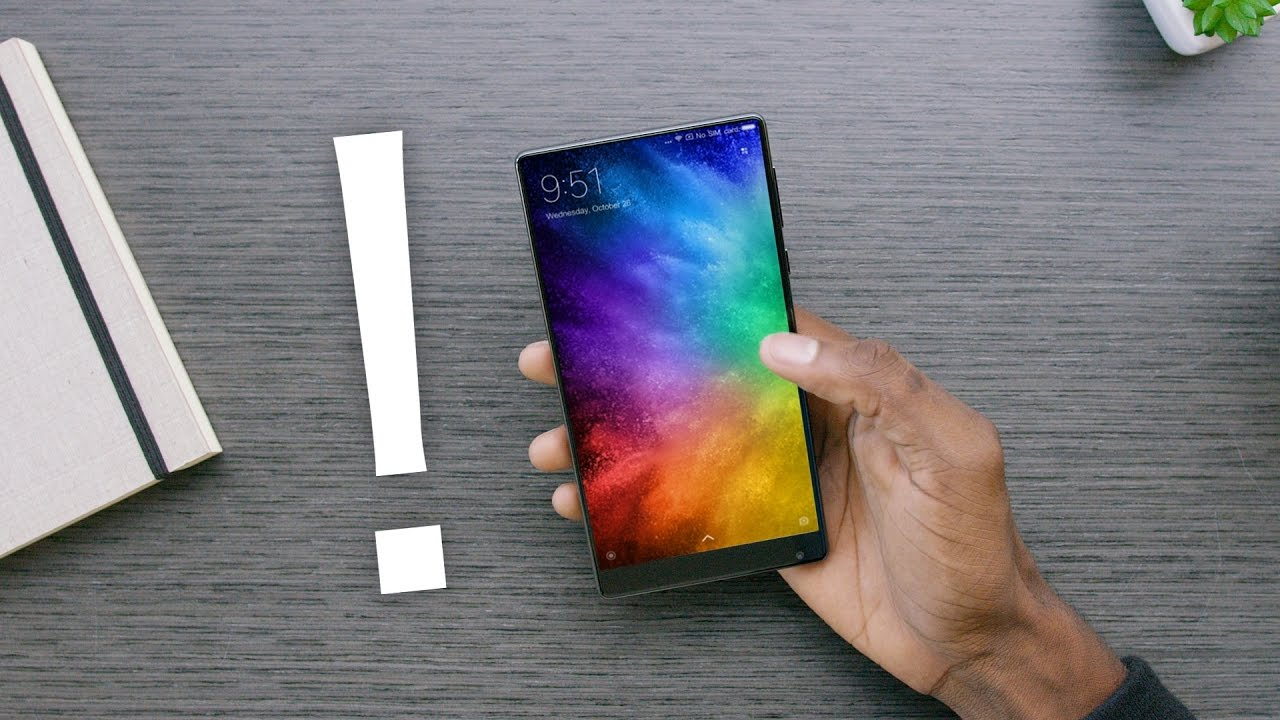smartphone: (514, 112, 830, 601)
